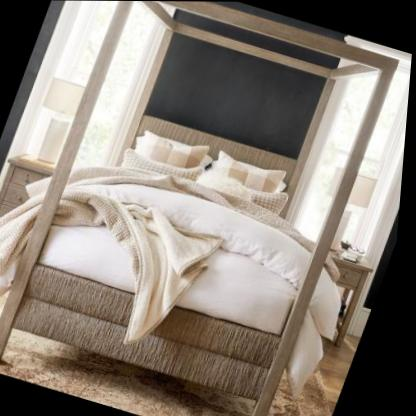Bed: (0, 0, 414, 416)
Lamp: (24, 73, 95, 171), (310, 163, 378, 254)
Nightstand: (290, 242, 386, 351), (0, 150, 64, 257)
